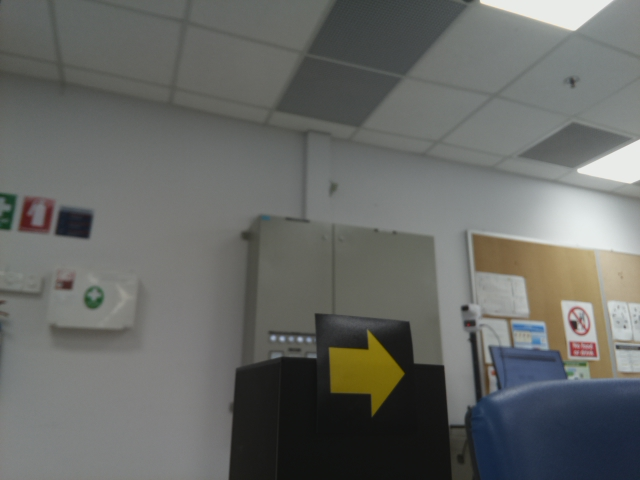right: (322, 321, 408, 429)
